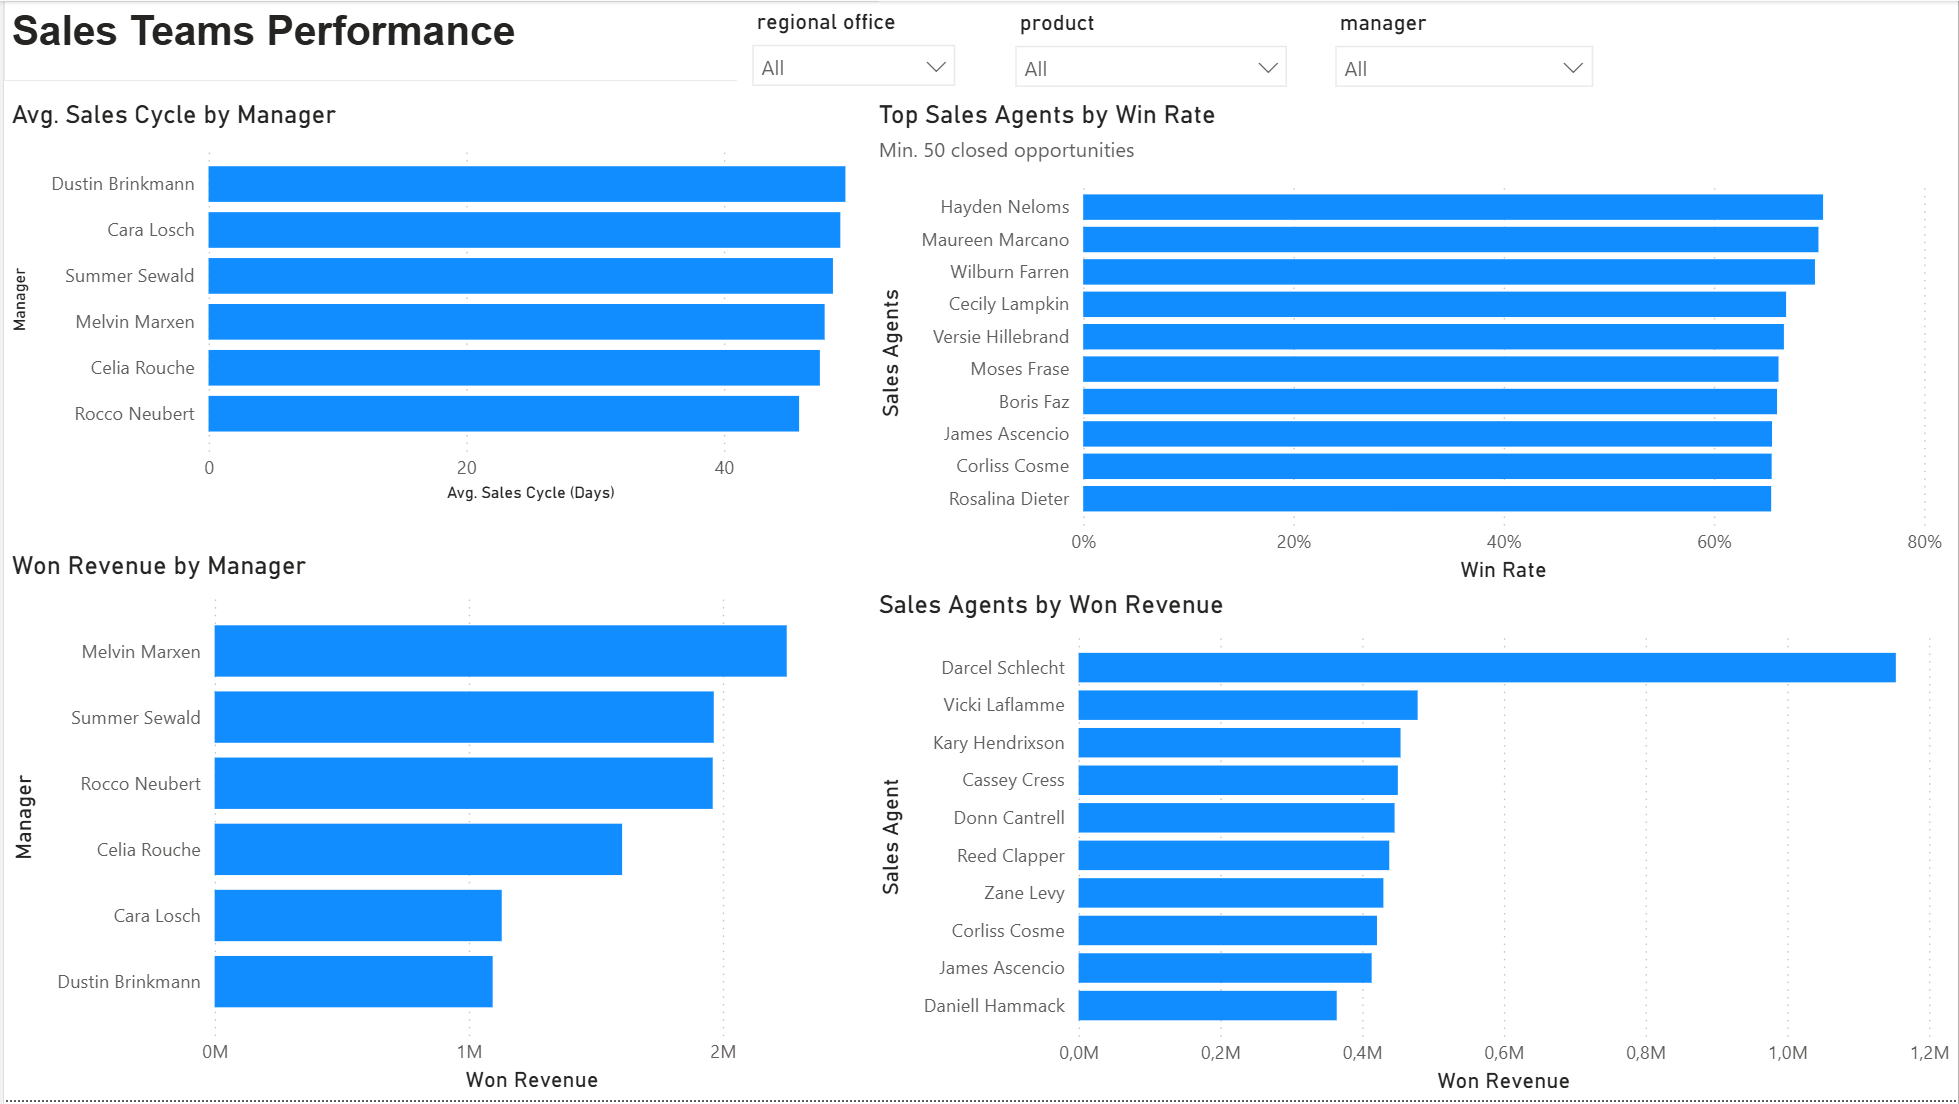

The page's visual inventory and layout, read from the dashboard file:
{"tool":"powerbi","page":{"name":"Sales Performance","canvas":[1280,720],"ordinal":1},"visuals":[{"type":"clusteredBarChart","title":"Avg. Sales Cycle  by Manager","fields":{"Y":["sales_pipeline.Average Sales Cycle"],"Category":["sales_teams.manager"]},"box":[0,64.2,567.9,268.6],"z":0},{"type":"clusteredBarChart","title":" Sales Agents by Won Revenue","fields":{"Category":["sales_teams.sales_agent"],"Y":["sales_pipeline.Won Revenue"]},"box":[567.9,385.2,712.1,334.7],"z":1000},{"type":"clusteredBarChart","title":"Top Sales Agents by Win Rate","fields":{"Y":["sales_pipeline.Win Rate"],"Category":["sales_teams.sales_agent"]},"box":[567.9,64.2,706.8,321],"z":2000},{"type":"clusteredBarChart","title":"Won Revenue by Manager","fields":{"Category":["sales_teams.manager"],"Y":["sales_pipeline.Won Revenue"]},"box":[0,359.9,568,359.9],"z":3000},{"type":"textbox","box":[0,0,573.3,52.4],"z":4000},{"type":"slicer","title":"Won Revenue by Close Month","fields":{"Values":["products.product"]},"box":[652.4,1.3,198.5,62.9],"z":4001},{"type":"slicer","fields":{"Values":["sales_teams.regional_office"]},"box":[480.2,0.7,153.3,64.2],"z":4002},{"type":"slicer","fields":{"Values":["sales_teams.manager"]},"box":[862.1,1.3,188.7,60.3],"z":4003}]}

Visuals, with their boxes in screenshot pixels (x1, y1, x2, y2), scaled from the page's 1280x720 canvas onto the 1959x1104 screenshot:
"Avg. Sales Cycle  by Manager" clusteredBarChart: <bbox>0, 98, 869, 510</bbox>
" Sales Agents by Won Revenue" clusteredBarChart: <bbox>869, 591, 1958, 1103</bbox>
"Top Sales Agents by Win Rate" clusteredBarChart: <bbox>869, 98, 1951, 591</bbox>
"Won Revenue by Manager" clusteredBarChart: <bbox>0, 552, 869, 1103</bbox>
textbox: <bbox>0, 0, 877, 80</bbox>
"Won Revenue by Close Month" slicer: <bbox>998, 2, 1302, 98</bbox>
slicer - sales_teams.regional_office: <bbox>735, 1, 970, 100</bbox>
slicer - sales_teams.manager: <bbox>1319, 2, 1608, 94</bbox>
